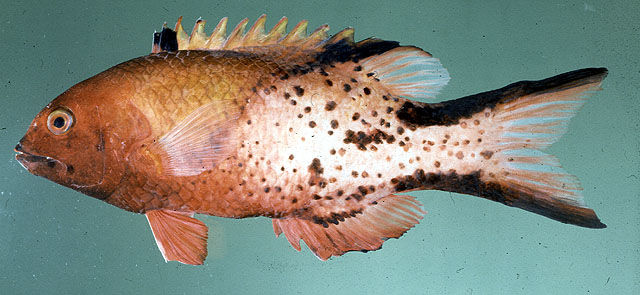fish: (15, 16, 609, 268)
